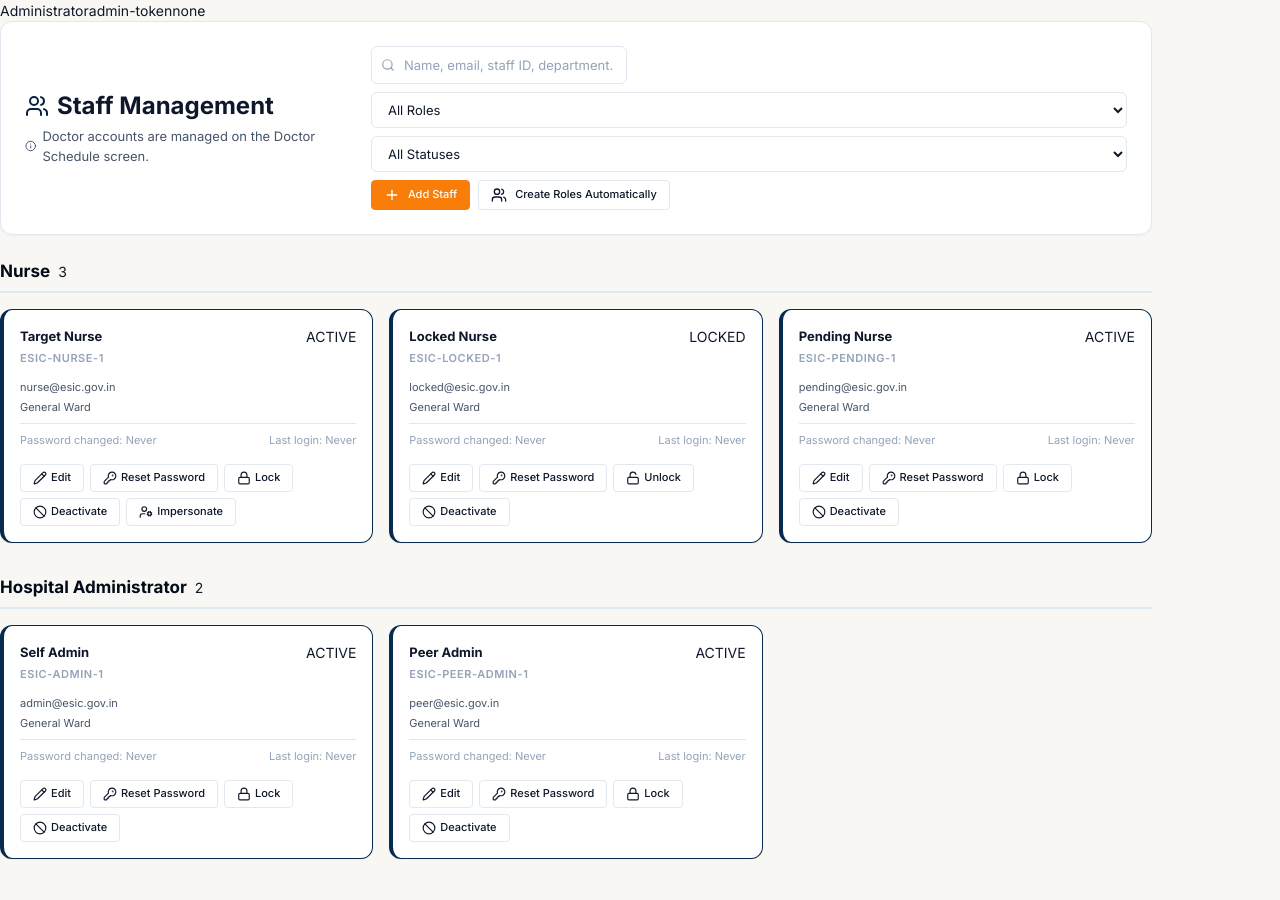
Test: StaffManagementPage impersonation flow (button -> modal -> session swap) › shows Impersonate only for eligible staff and completes the confirm flow
Expected: the heading "Target Nurse" is shown, [20,326,104,346]
Expected: the heading "Locked Nurse" is shown, [409,326,501,346]
Step 1. Click the button "Impersonate" → (181, 512), box [126,498,236,526]
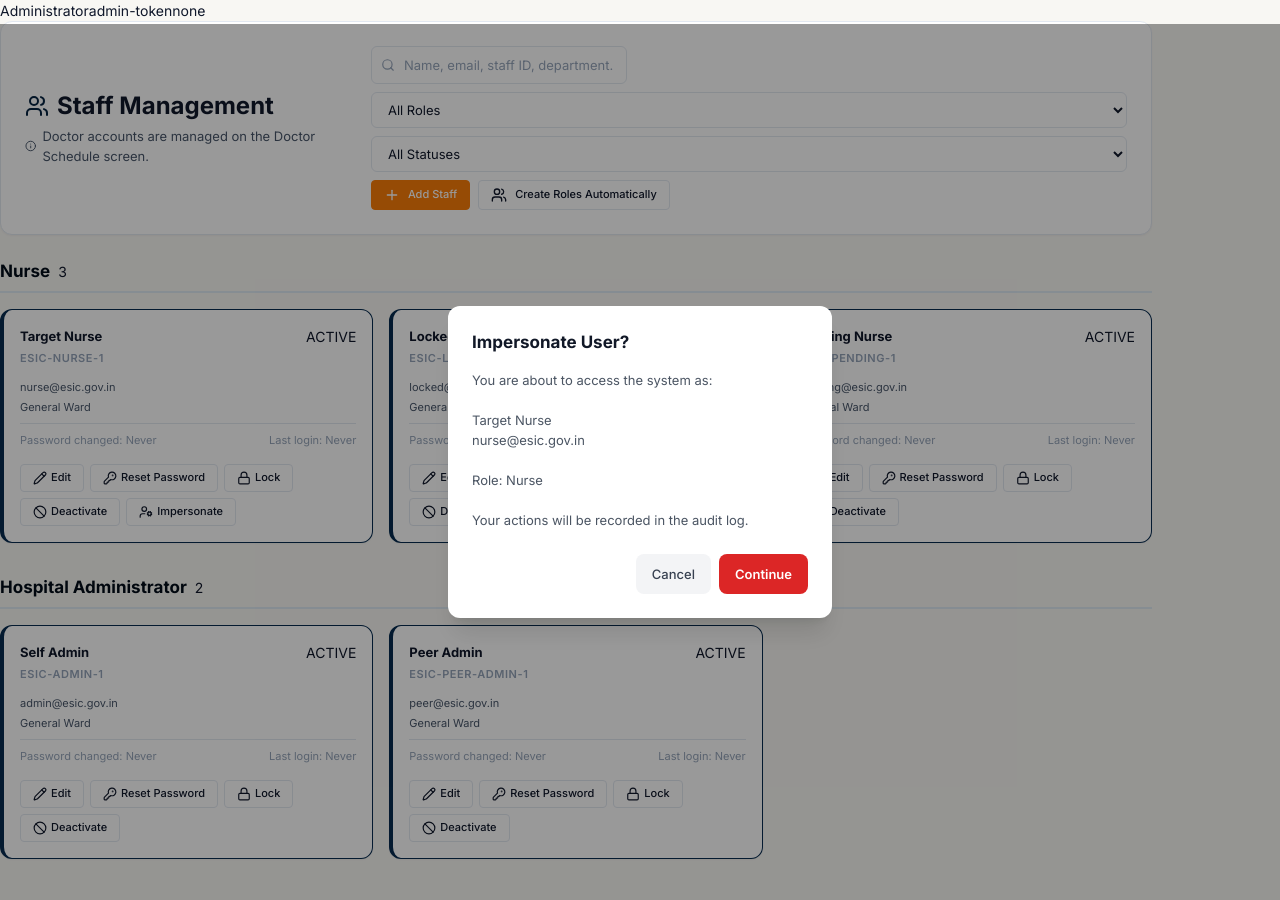
Result: the heading "Impersonate User?" is shown at [472,332,629,352]
Step 2. Click the button "Continue" → (764, 574), box [719,554,808,594]
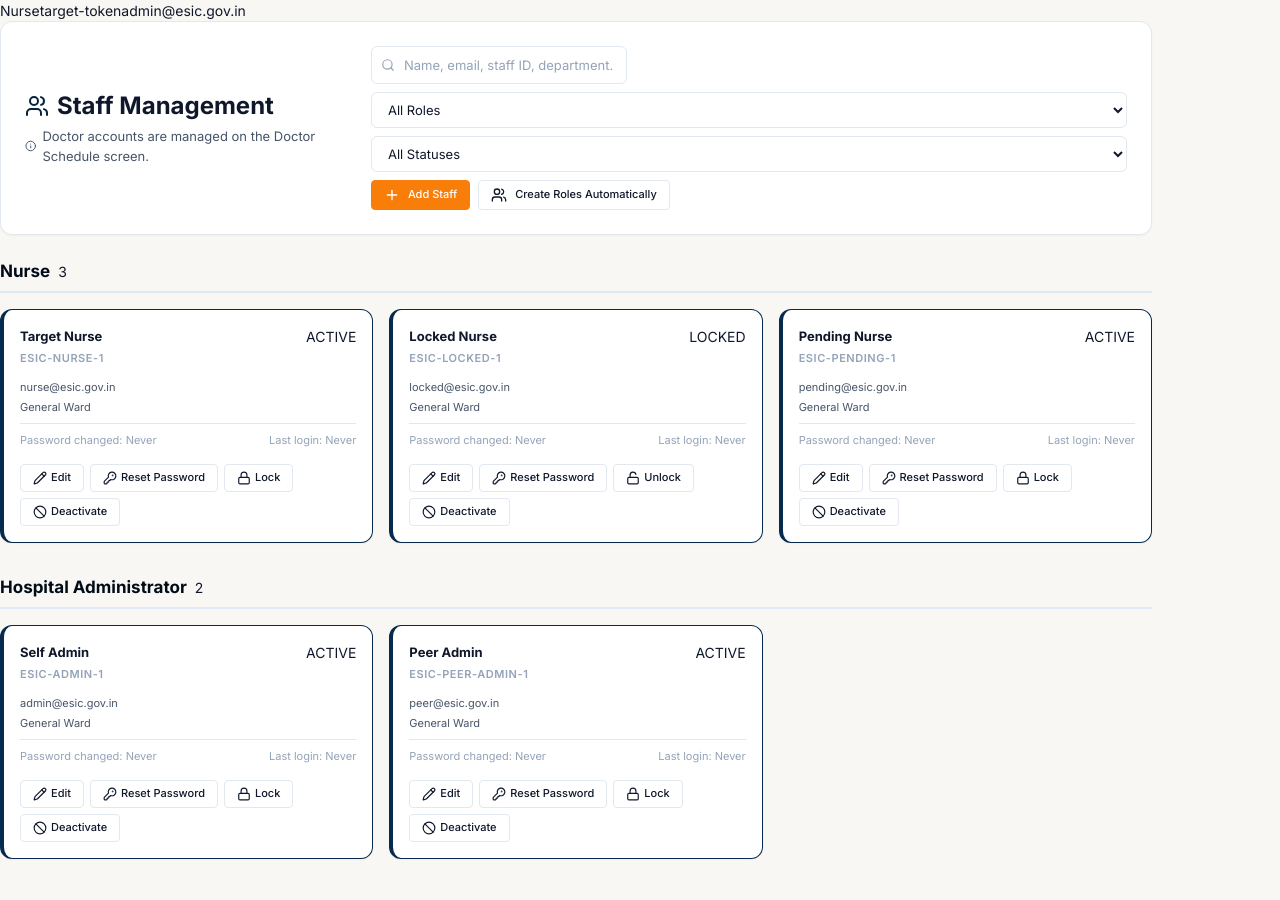
Result: the heading "Impersonate User?" is gone
Result: the text with test id "probe-role" reads "Nurse" at [0,2,40,19]
Result: the text with test id "probe-impersonator" reads "admin@esic.gov.in" at [121,2,246,19]
